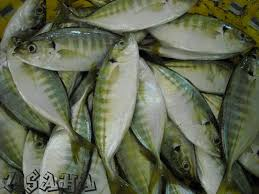Ikan Selar: (93, 32, 143, 172), (12, 25, 141, 70), (146, 14, 259, 59)
